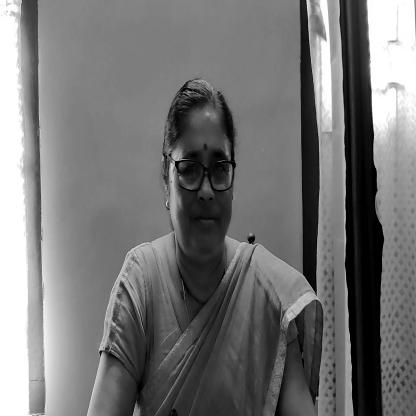Normal: (164, 79, 234, 264)
